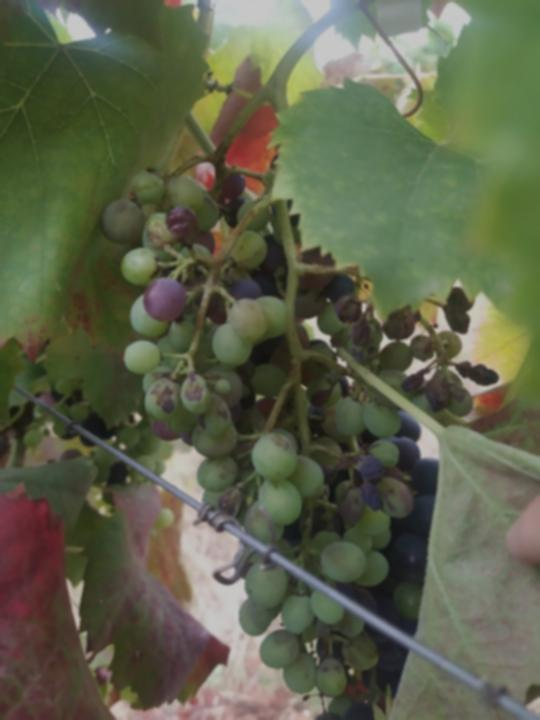grape: (97, 165, 504, 707)
